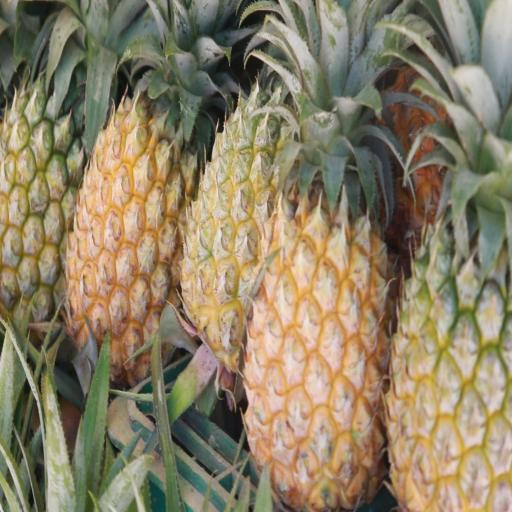------------------------------: (381, 57, 512, 512), (0, 10, 81, 331)
Pineapple - v8 v1: (238, 80, 395, 512), (59, 17, 198, 383), (178, 21, 304, 365)
